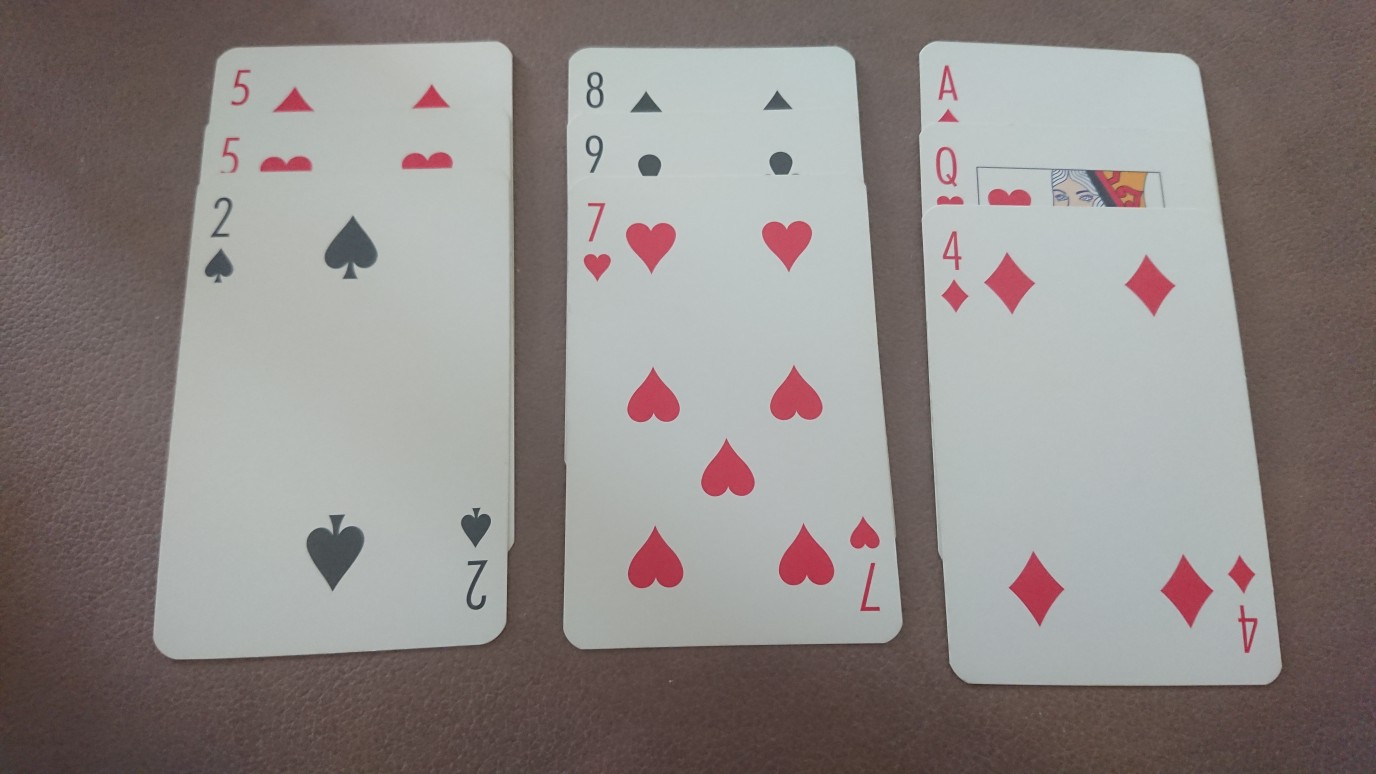2S: (202, 196, 242, 287)
4D: (938, 226, 975, 316)
7H: (580, 196, 614, 285)
AD: (931, 59, 964, 122)
QH: (932, 143, 970, 205)
